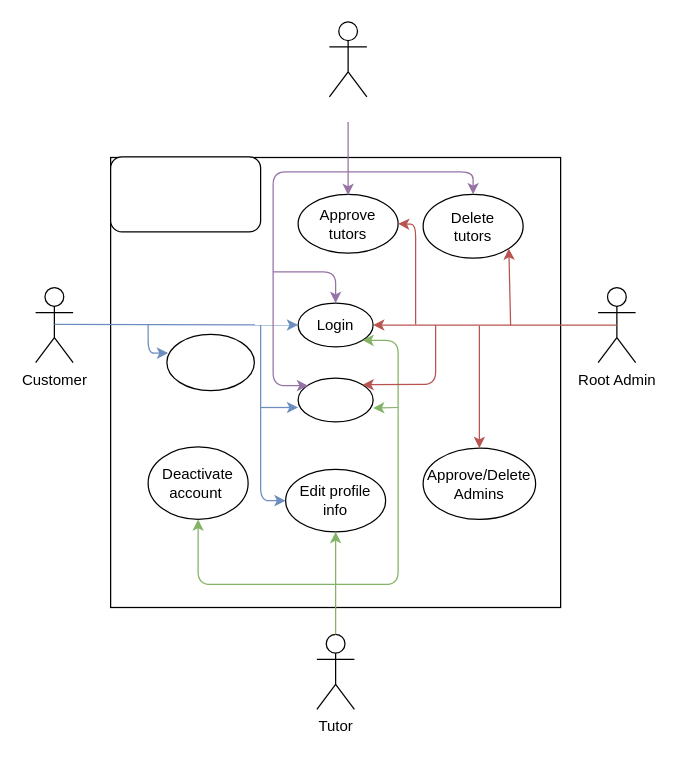
This 676x758 diagram has some shape labels left out. The centre of each missing label's shape, as x and y in pixels:
Admin: point (347, 59)
Logout: point (335, 399)
Math Fellows Website: point (185, 194)
Search tutors: point (210, 362)
